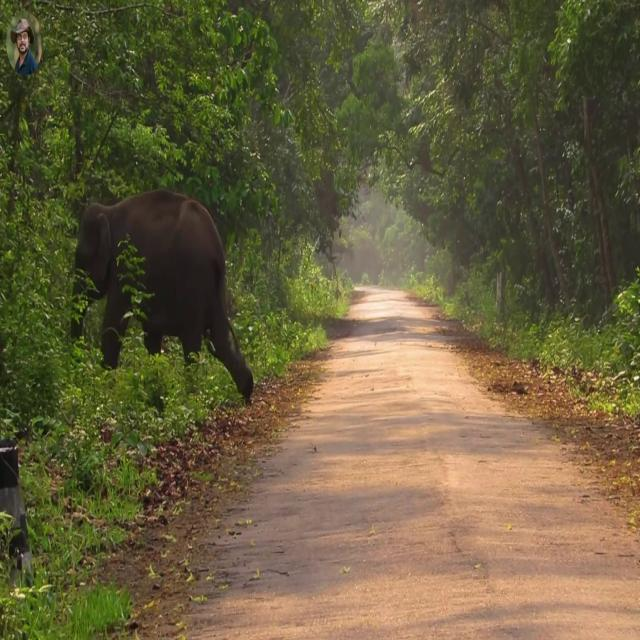Elephant: (69, 187, 254, 405)
person: (10, 16, 40, 76)
